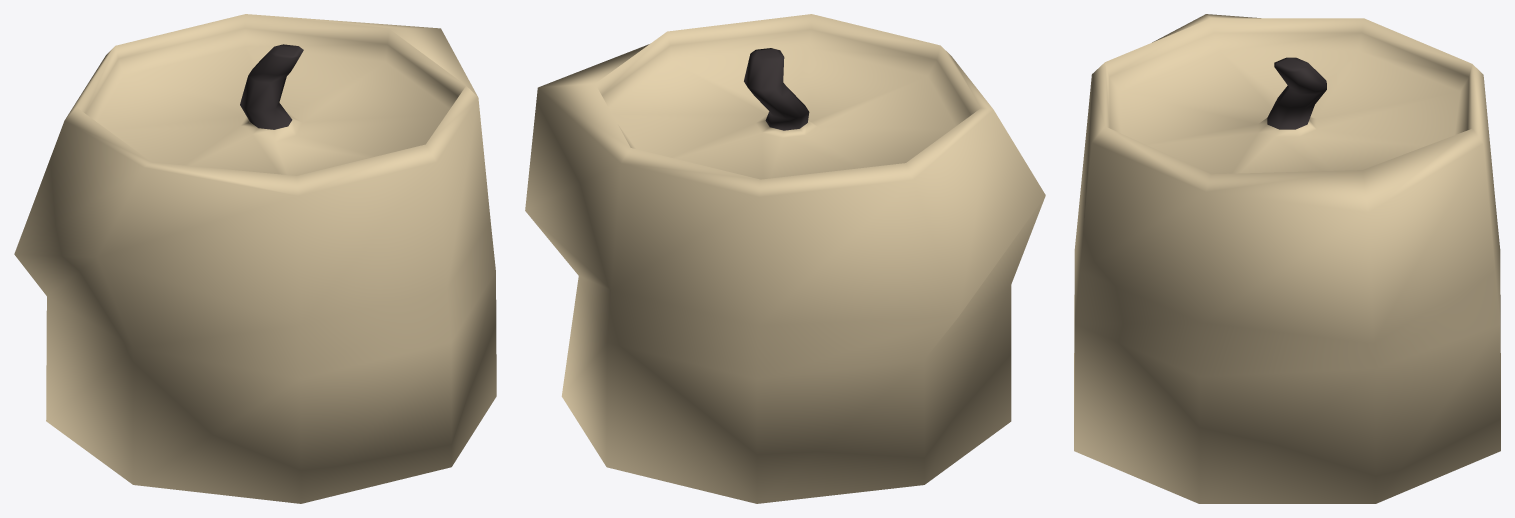
The model's file is OBJETS_Bougie_usée_JAM_2024.fbx.
3 views of the same model, side by side, from view 1: azimuth 30°, elevation 25°; view 2: azimuth 150°, elevation 25°; view 3: azimuth 270°, elevation 25° (orthographic).
Parts seen in each view (by area): view 1: Bougie usée; view 2: Bougie usée; view 3: Bougie usée.
Part boxes in pixels (left/top/right/bottom): Bougie usée: left=14, top=14, right=496, bottom=503; Bougie usée: left=525, top=14, right=1045, bottom=503; Bougie usée: left=1074, top=14, right=1500, bottom=503.
Size of the model in its own units: 10.07 by 7.77 by 8.39.
